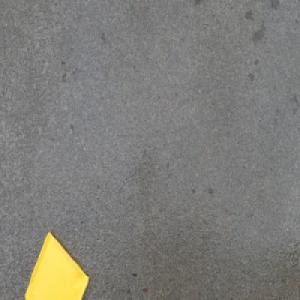PlasticPart: (23, 228, 89, 300)
